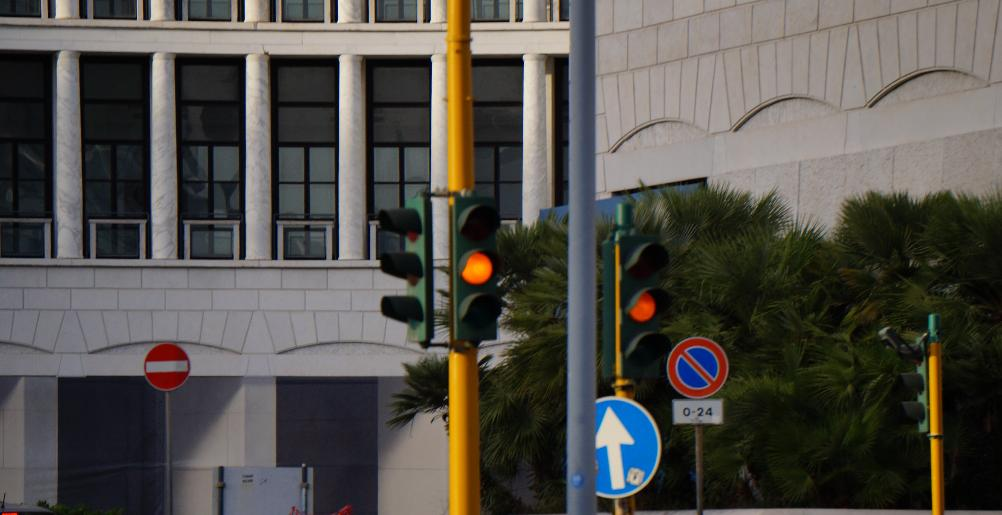yellow_light: (620, 235, 671, 379), (454, 196, 502, 341)
